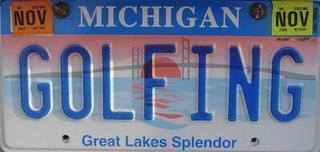placa de veiculo: (3, 1, 316, 150)
